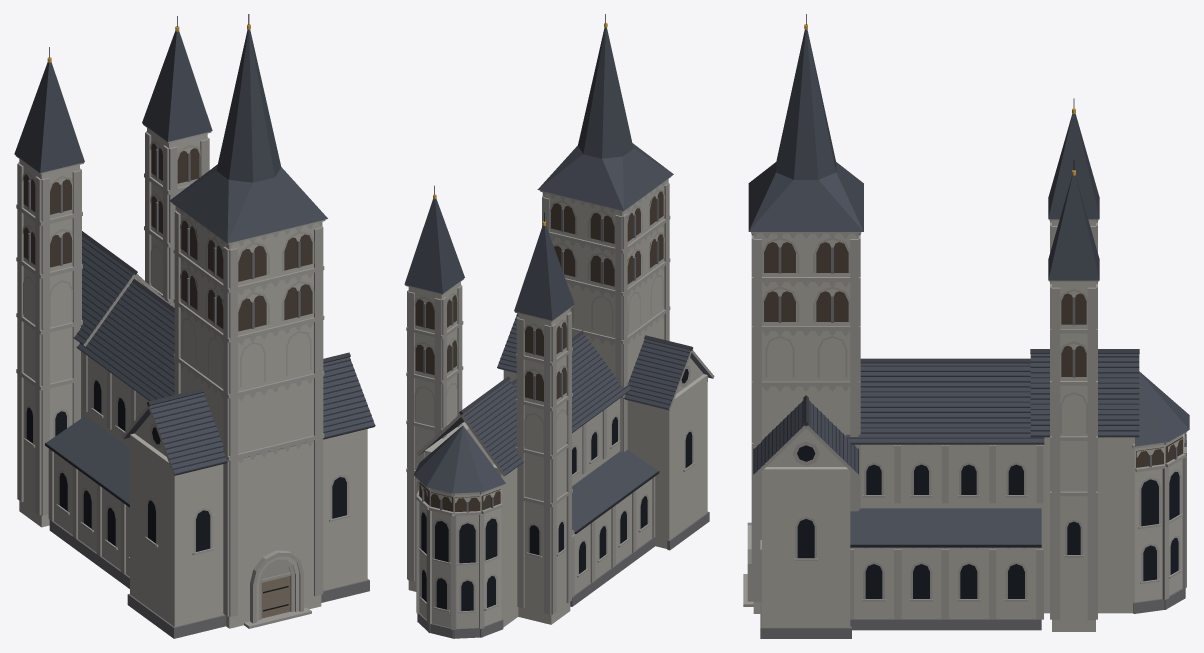
Rendered from koeln_st_kunibert.glb.
3 renders of one model, left to right at view 1: azimuth 30°, elevation 25°; view 2: azimuth 150°, elevation 25°; view 3: azimuth 270°, elevation 25°, orthographic. The views are drawn at different scales.
Visible parts, largest first — view 1: Kirche; view 2: Kirche; view 3: Kirche.
Boxes of the visible parts, box(x1,y1,x2,y2) form: Kirche: box(14, 14, 375, 638); Kirche: box(404, 14, 714, 638); Kirche: box(743, 14, 1189, 638).
Bounding box in the file's own units: 13.56 × 37.6 × 26.31.
